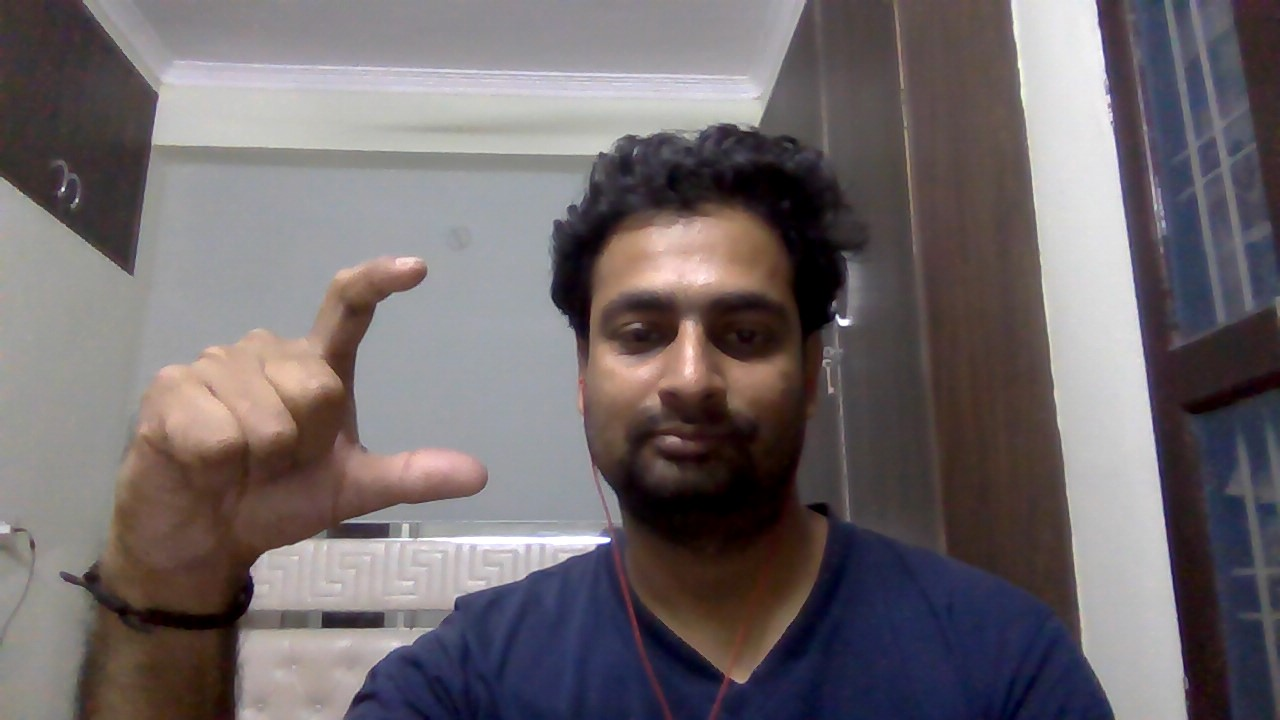Paste: (106, 247, 532, 585)
